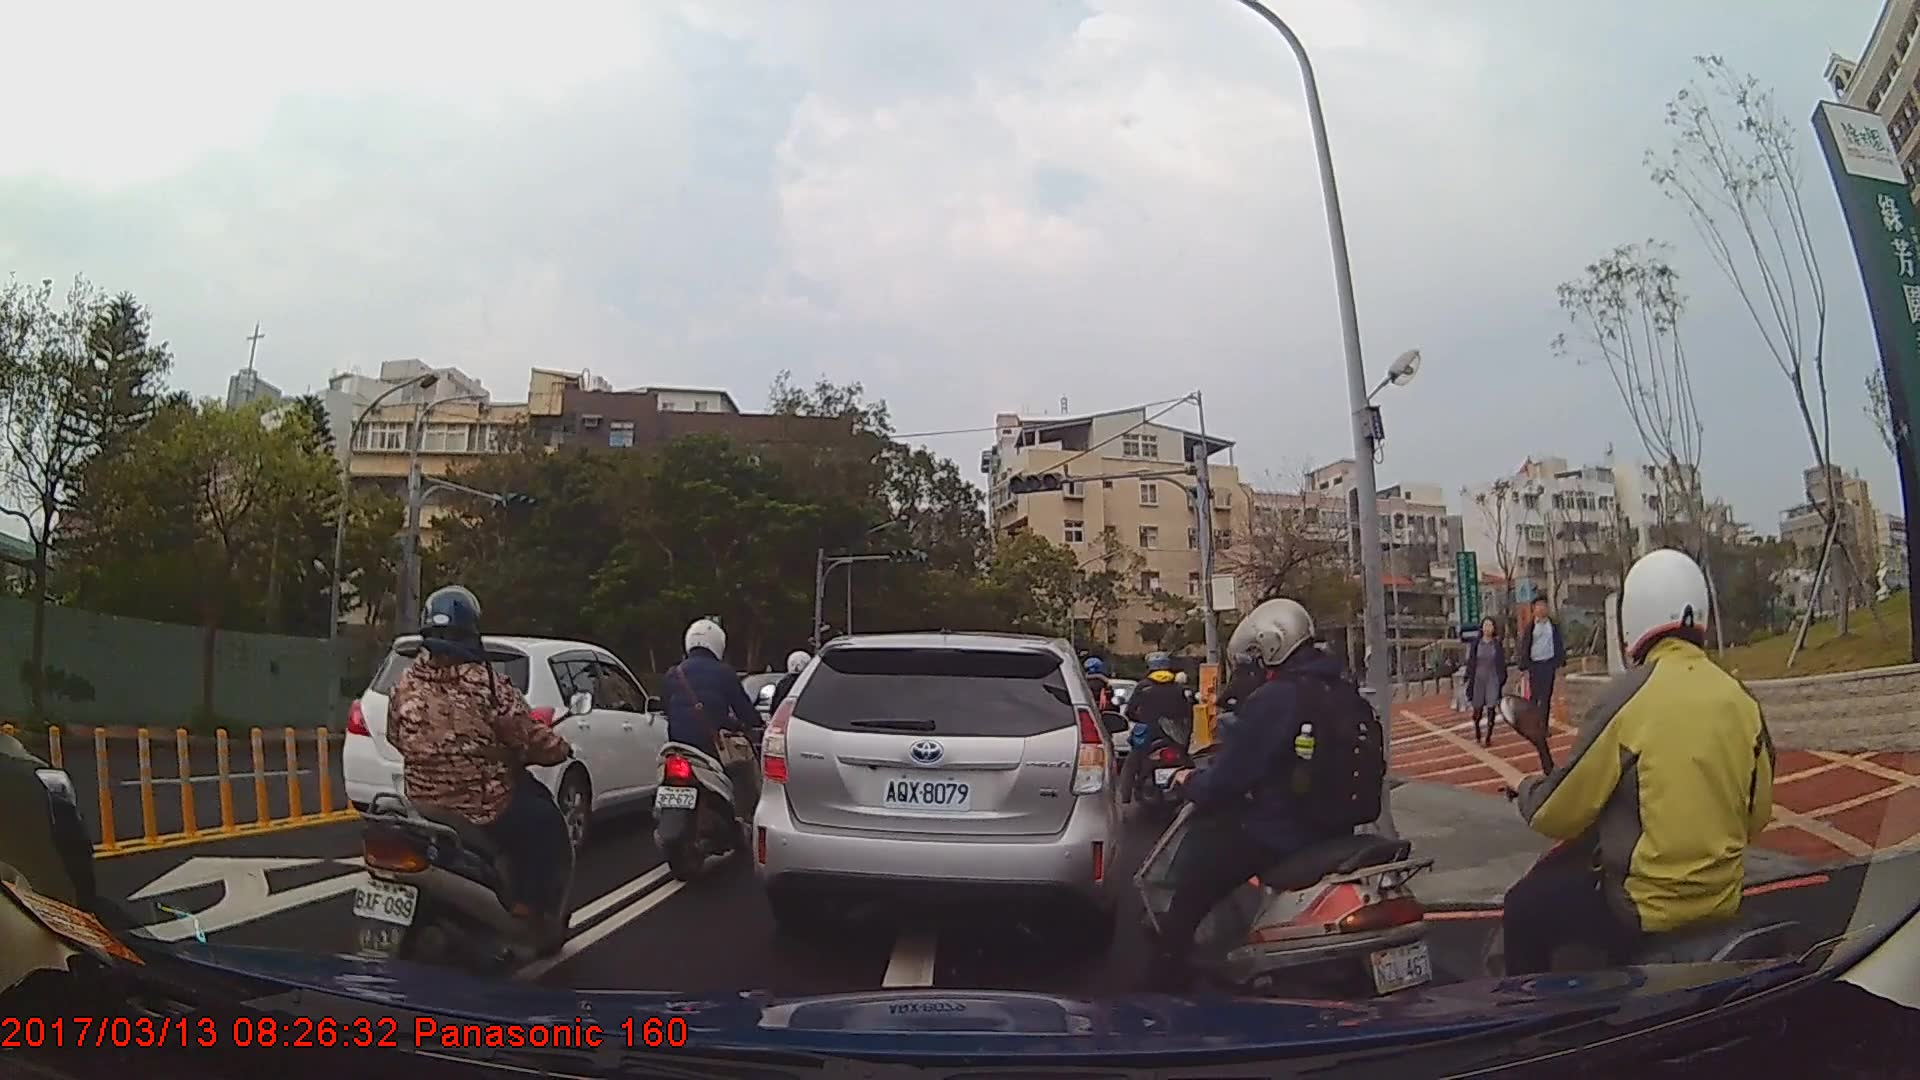pedestrian: (1522, 596, 1570, 747), (1459, 615, 1508, 748)
rider: (1490, 549, 1799, 1066), (1132, 600, 1443, 1016), (348, 584, 583, 992), (652, 617, 779, 882), (1116, 647, 1209, 834)
vehicle: (752, 631, 1122, 944), (342, 633, 686, 853)
